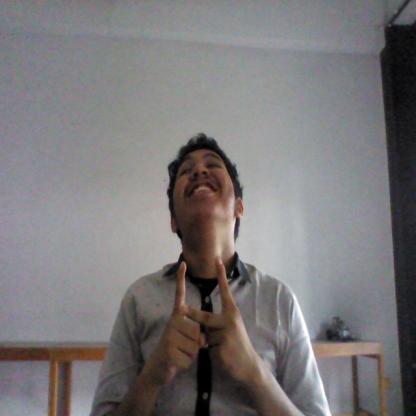H: (157, 256, 248, 385)
